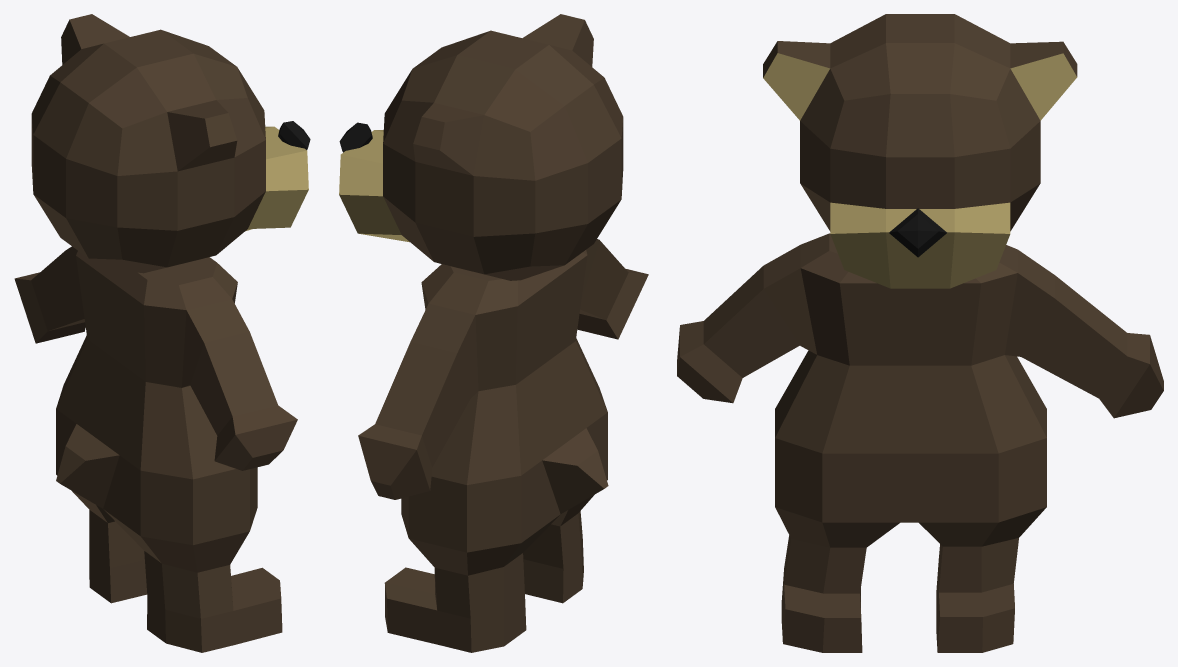
File: teddybear.fbx
The picture shows the model from 3 angles, left to right: view 1: azimuth 30°, elevation 25°; view 2: azimuth 150°, elevation 25°; view 3: azimuth 270°, elevation 25°; orthographic projection. The views are drawn at different scales.
Visible parts, largest first — view 1: teddy; view 2: teddy; view 3: teddy.
Boxes of the visible parts, left/top/right/bottom form: teddy: left=14, top=14, right=310, bottom=652; teddy: left=339, top=14, right=648, bottom=652; teddy: left=677, top=14, right=1163, bottom=652.
Bounding box in the file's own units: 166 × 342 × 259.
